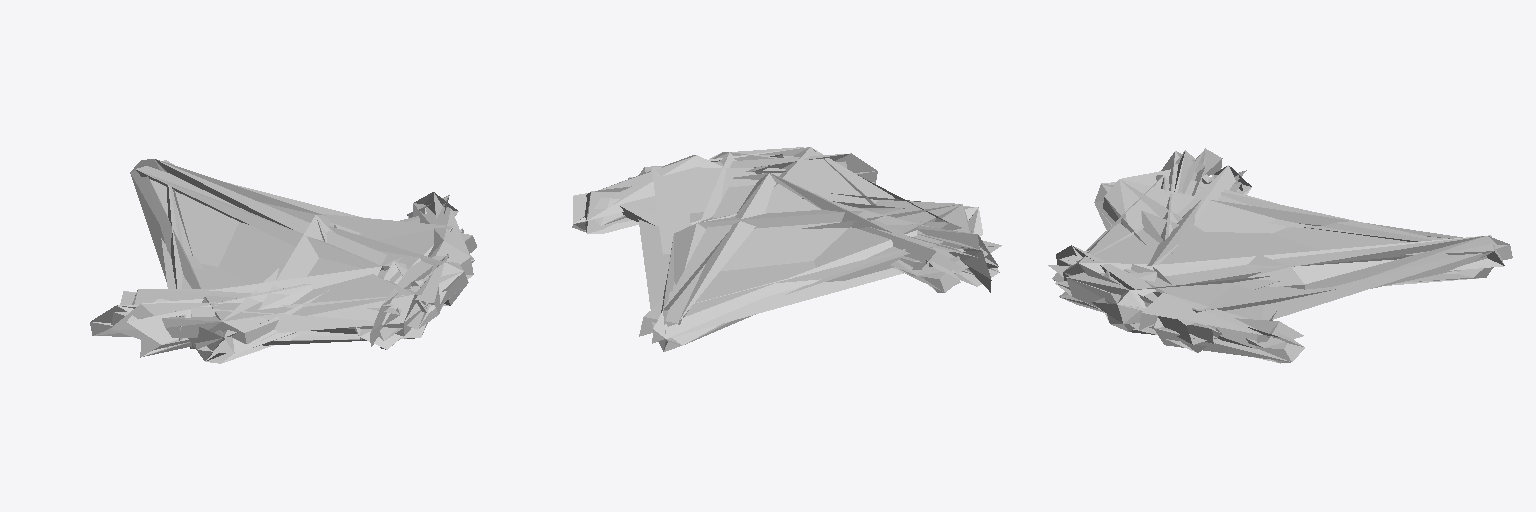
Rendered from Dog bowl.obj.
3 views of the same model, side by side, from view 1: azimuth 30°, elevation 25°; view 2: azimuth 150°, elevation 25°; view 3: azimuth 270°, elevation 25° (orthographic).
Parts seen in each view (by area): view 1: Cylinder001, Cylinder002; view 2: Cylinder001, Cylinder002; view 3: Cylinder001, Cylinder002, Sphere001.
Part boxes in pixels (bbox=[...]): Cylinder001: bbox=[90, 159, 476, 363]; Cylinder002: bbox=[130, 159, 415, 363]; Cylinder001: bbox=[572, 147, 1001, 351]; Cylinder002: bbox=[643, 147, 982, 351]; Cylinder001: bbox=[1048, 148, 1512, 363]; Cylinder002: bbox=[1064, 175, 1493, 332]; Sphere001: bbox=[1107, 290, 1142, 331].
Bounding box in the file's own units: 424997 × 55244 × 439871.